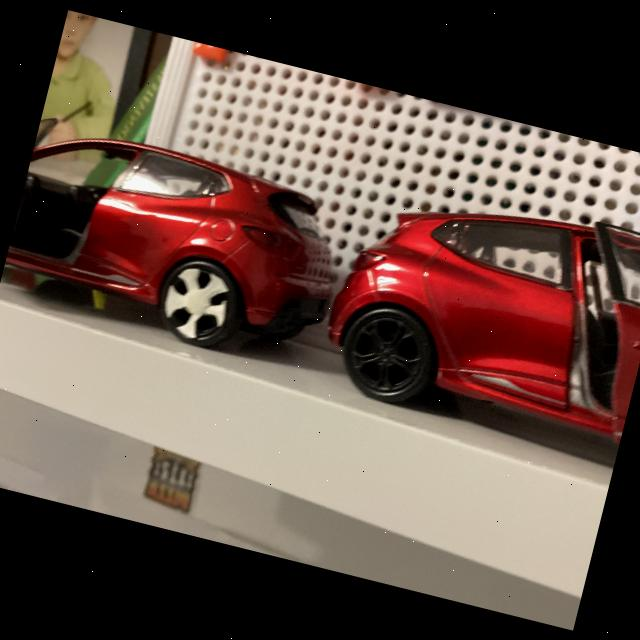Dogru_Jant: (348, 315, 423, 395)
Yanlis_Jant: (156, 260, 236, 347)
